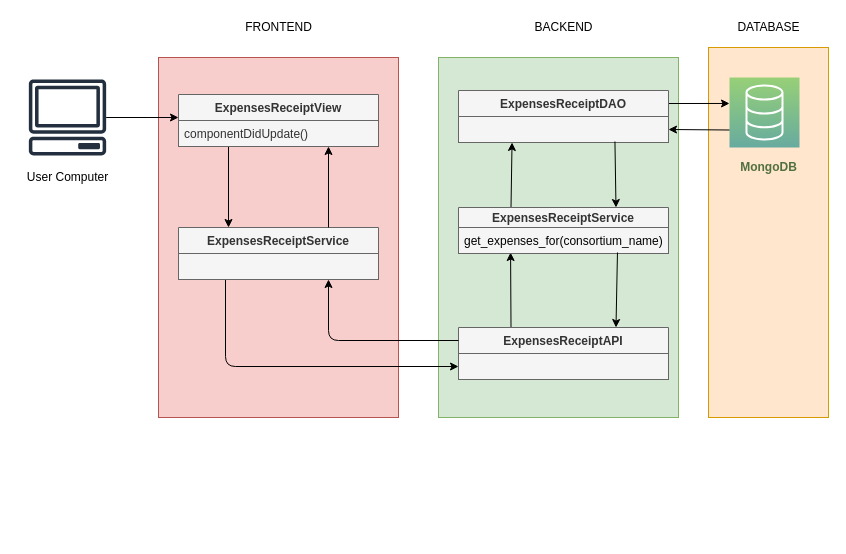
Image size: 846x554. Some labels were removed from this diagram. Each missing label, with the centre of its shape:
"expenses()" belongs at pixel 563 366.
"gat_all(query_obj)" belongs at pixel 563 129.
"getExpensesFor(Consortium)" belongs at pixel 278 266.
